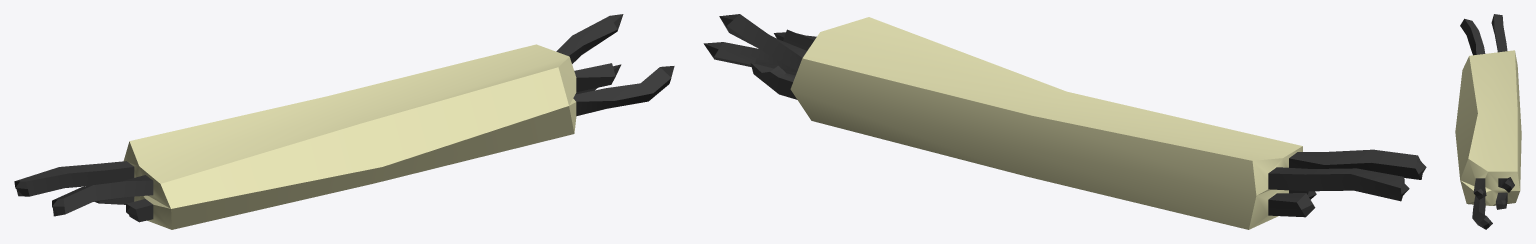
The model's file is CConcreteRebar.fbx.
The picture shows the model from 3 angles, left to right: view 1: azimuth 30°, elevation 25°; view 2: azimuth 150°, elevation 25°; view 3: azimuth 270°, elevation 25°; orthographic projection. The views are drawn at different scales.
Visible parts, largest first — view 1: Cube; view 2: Cube; view 3: Cube.
Part boxes in pixels (<box>): Cube: <box>14,14,674,229</box>; Cube: <box>703,14,1426,229</box>; Cube: <box>1455,14,1521,229</box>.
Size of the model in its own units: 1002 by 111 by 149.
